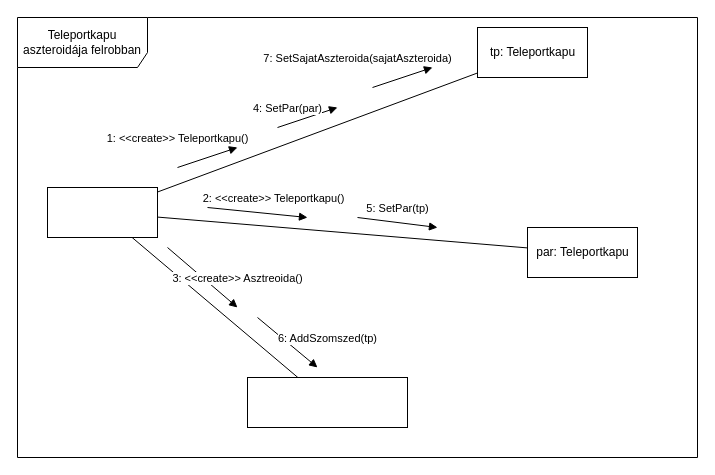
Image size: 715x475. Some labels were removed from this diagram. The centre of each missing label's shape, as x and y in pixels:
"Controller" goes at point (102, 212).
"sajatAszteroida: Aszteroida" goes at point (327, 402).
